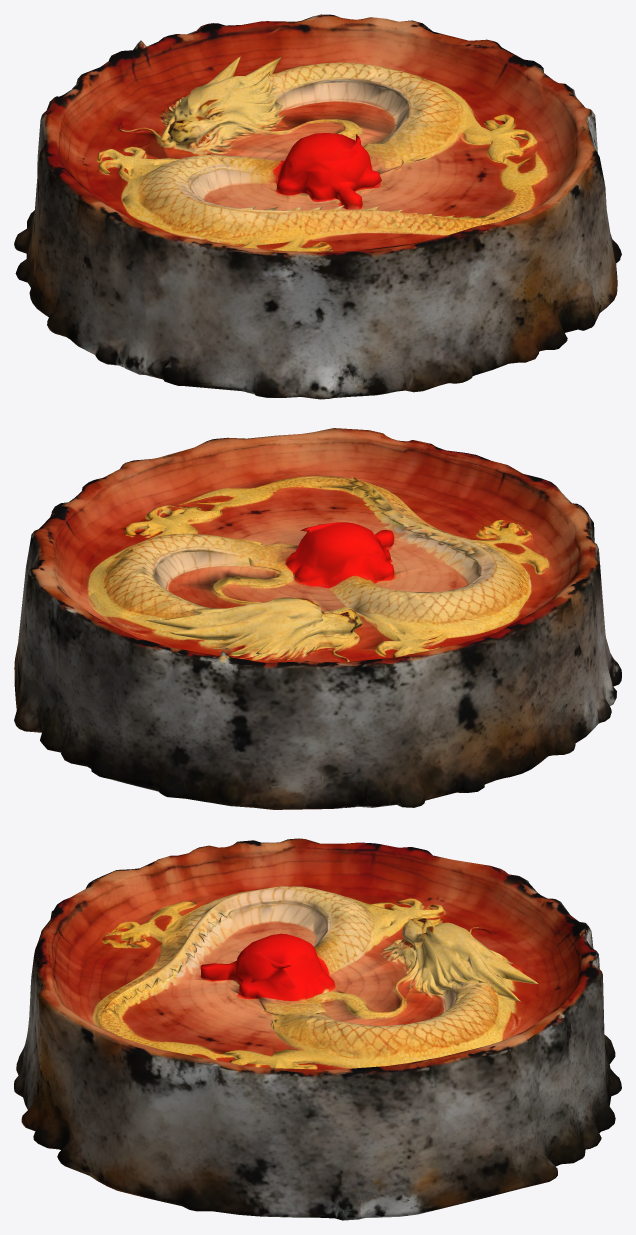
File: longxueshenmu.glb
3 renders of one model, top to bottom at view 1: azimuth 30°, elevation 25°; view 2: azimuth 150°, elevation 25°; view 3: azimuth 270°, elevation 25°, orthographic.
Visible parts, largest first — view 1: node_0; view 2: node_0; view 3: node_0.
Boxes of the visible parts, <box> form: node_0: <box>14,14,621,399</box>; node_0: <box>14,428,621,809</box>; node_0: <box>14,838,621,1220</box>.
Size of the model in its own units: 1.12 by 0.3101 by 1.12.
Materials: 1 (1 with a texture image).
